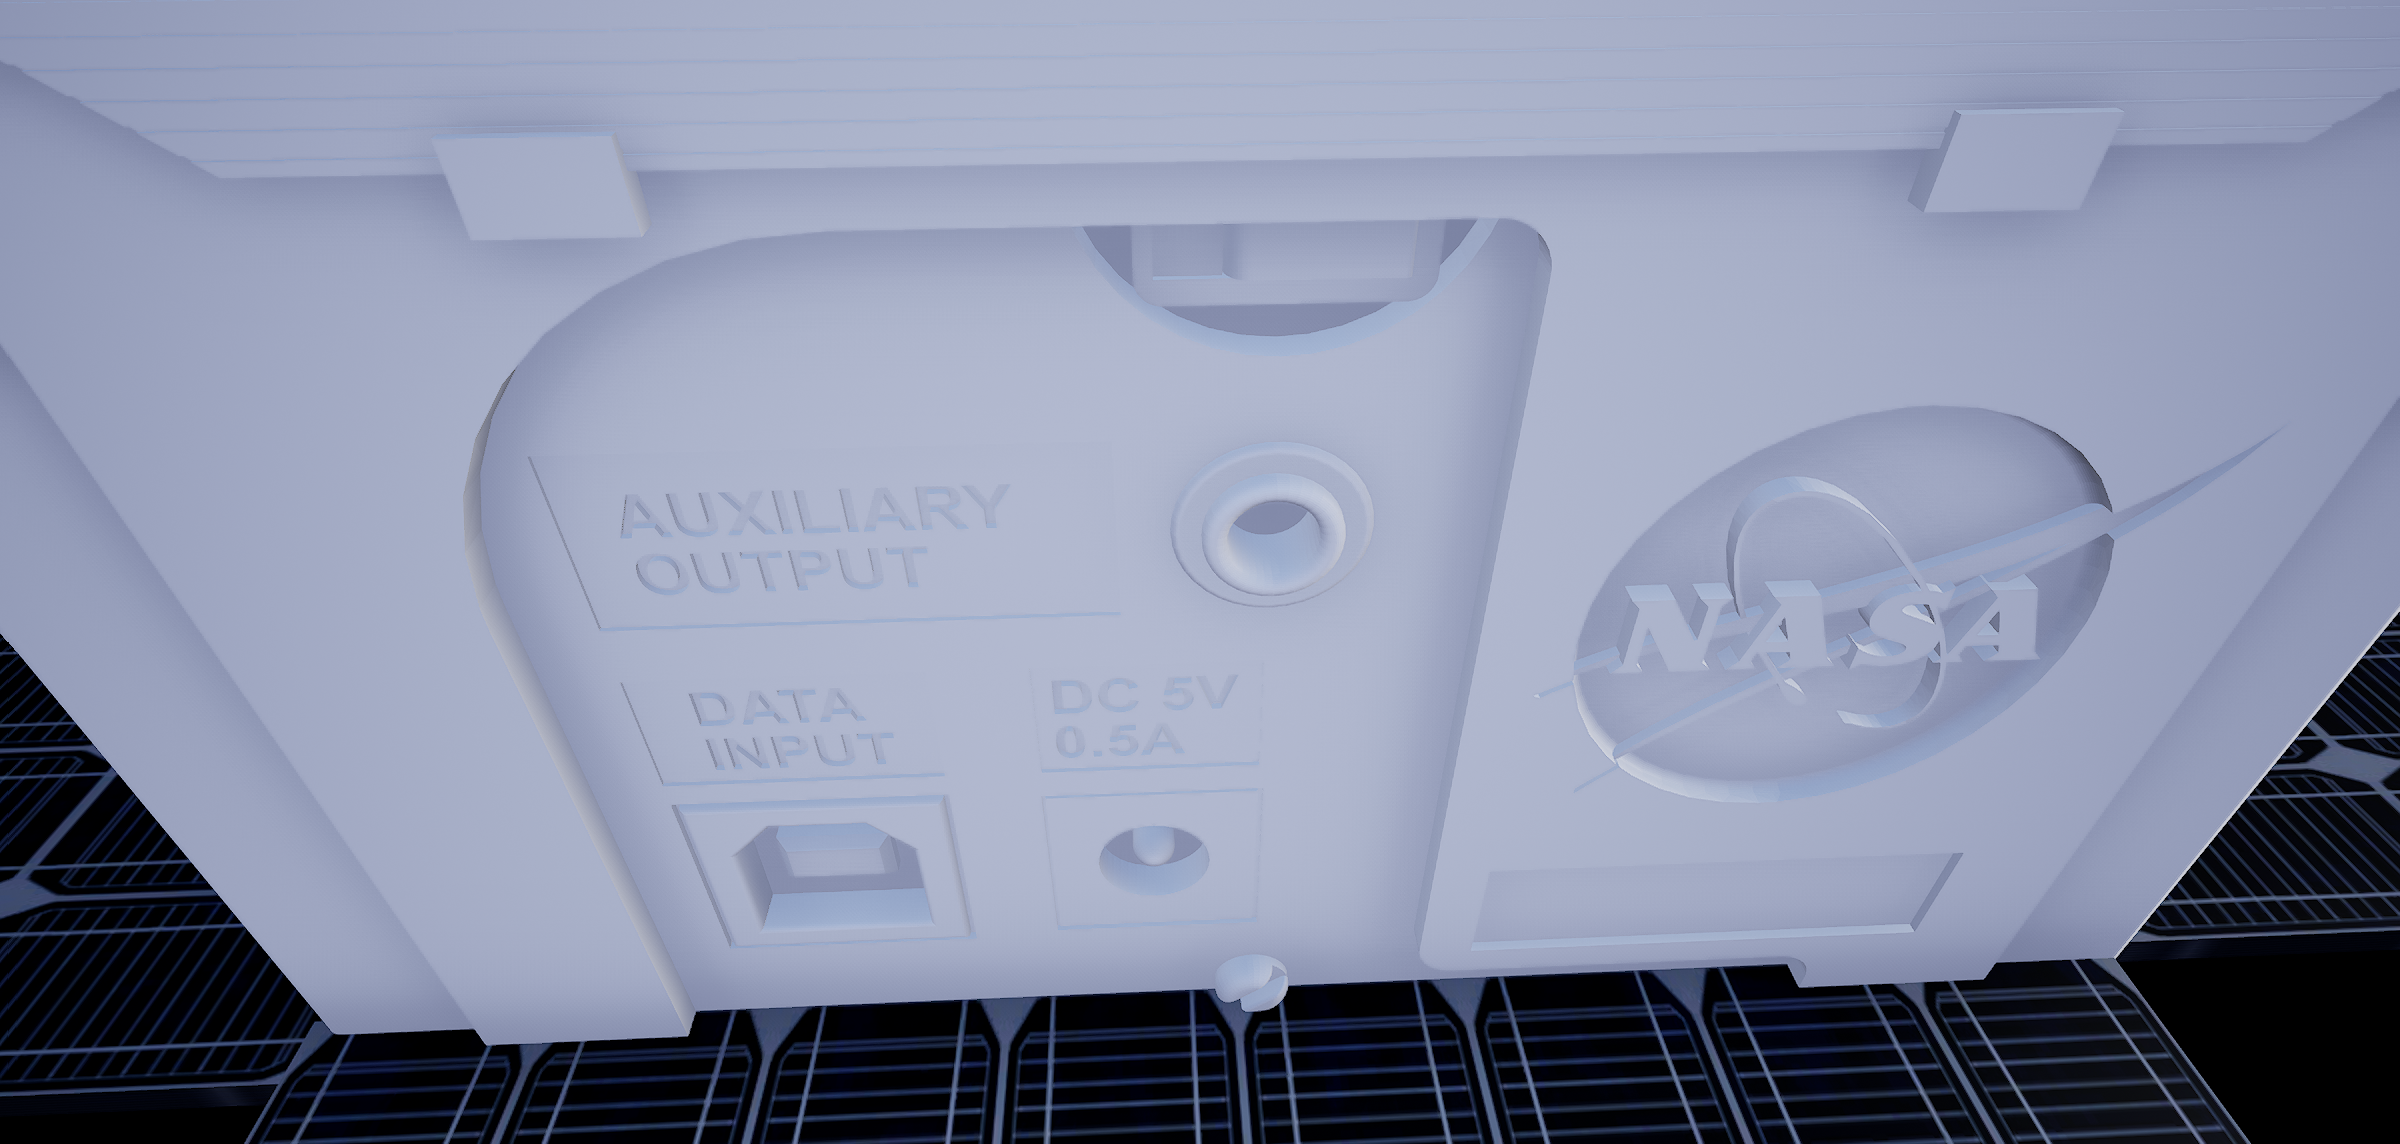aux: (1165, 441, 1390, 616)
dc: (1088, 812, 1224, 902)
usb: (729, 819, 944, 937)
